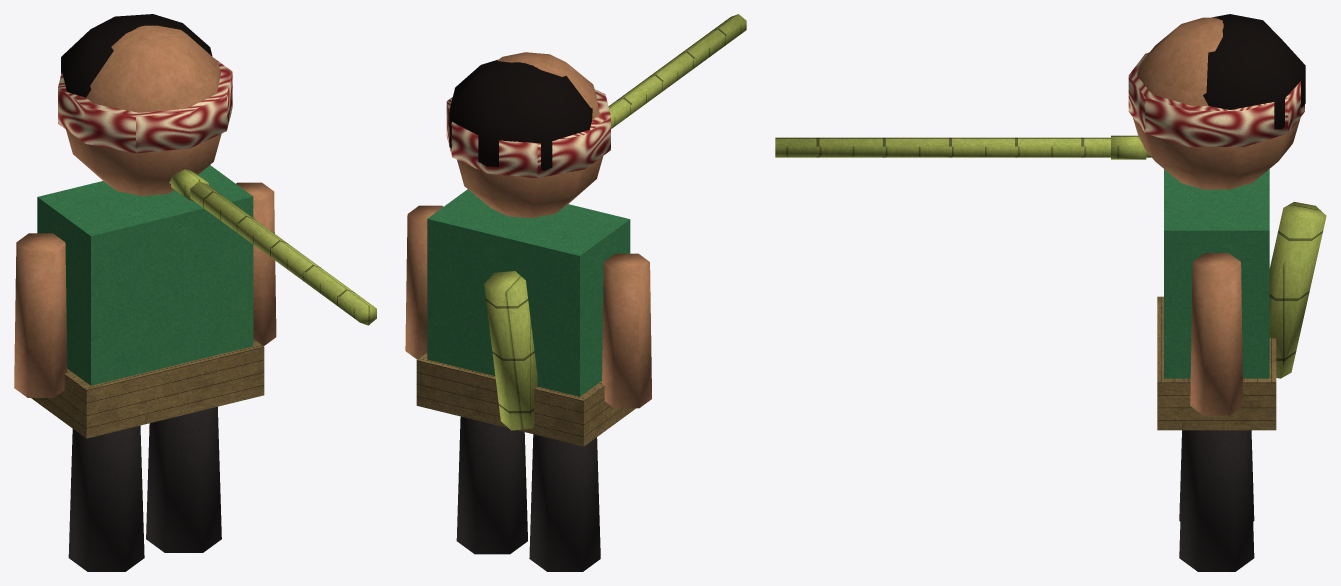
File: pemanah_sunda.glb
3 views of the same model, side by side, from view 1: azimuth 30°, elevation 25°; view 2: azimuth 150°, elevation 25°; view 3: azimuth 270°, elevation 25° (orthographic). The views are drawn at different scales.
Parts seen in each view (by area): view 1: pemanah_sunda; view 2: pemanah_sunda; view 3: pemanah_sunda.
Boxes of the visible parts, x1,y1,x2,y2 form: pemanah_sunda: [14, 14, 376, 571]; pemanah_sunda: [405, 14, 746, 571]; pemanah_sunda: [775, 14, 1326, 571].
Size of the model in its own units: 0.6439 by 1.29 by 1.25.
7 materials, 6 textured.
